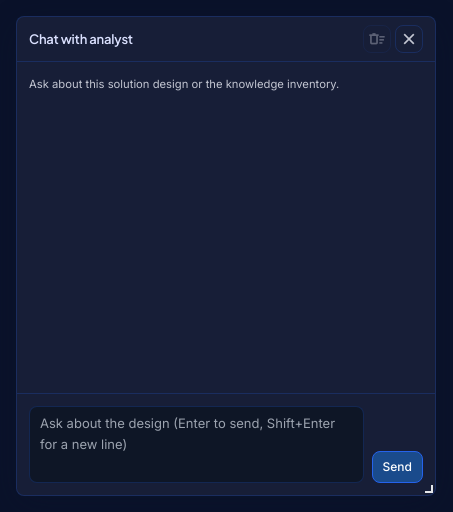
Test: raw html in a reply is shown as text, not injected
The image size is (453, 512).
Replace the text in the text box named "Chat message" with "is this safe for the api?" at (196, 444), box top-left (29, 406), bottom-right (364, 483)
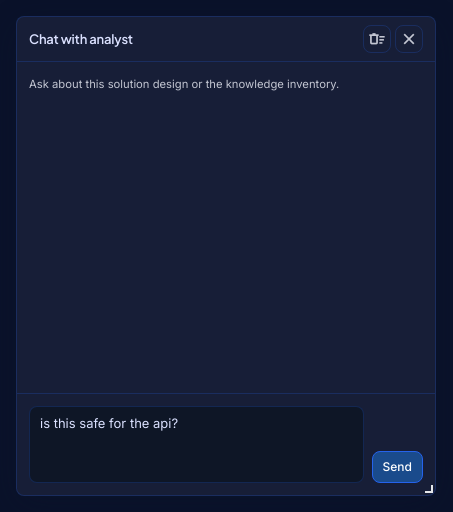
Click the button "Send" at (397, 467), box top-left (372, 451), bottom-right (423, 483)
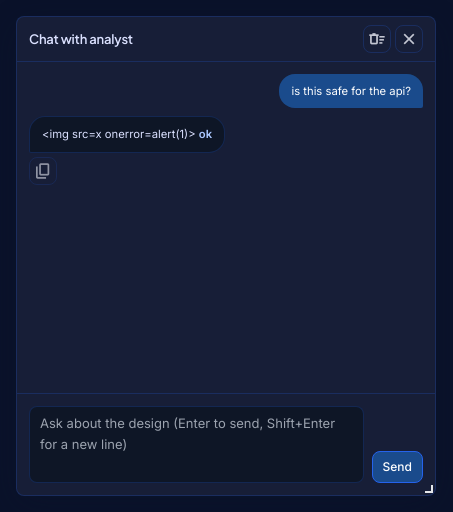
Now the element with class "chat-md" is shown, box top-left (29, 116), bottom-right (225, 153)
Now the text "ok" is shown, box top-left (199, 127), bottom-right (212, 141)
